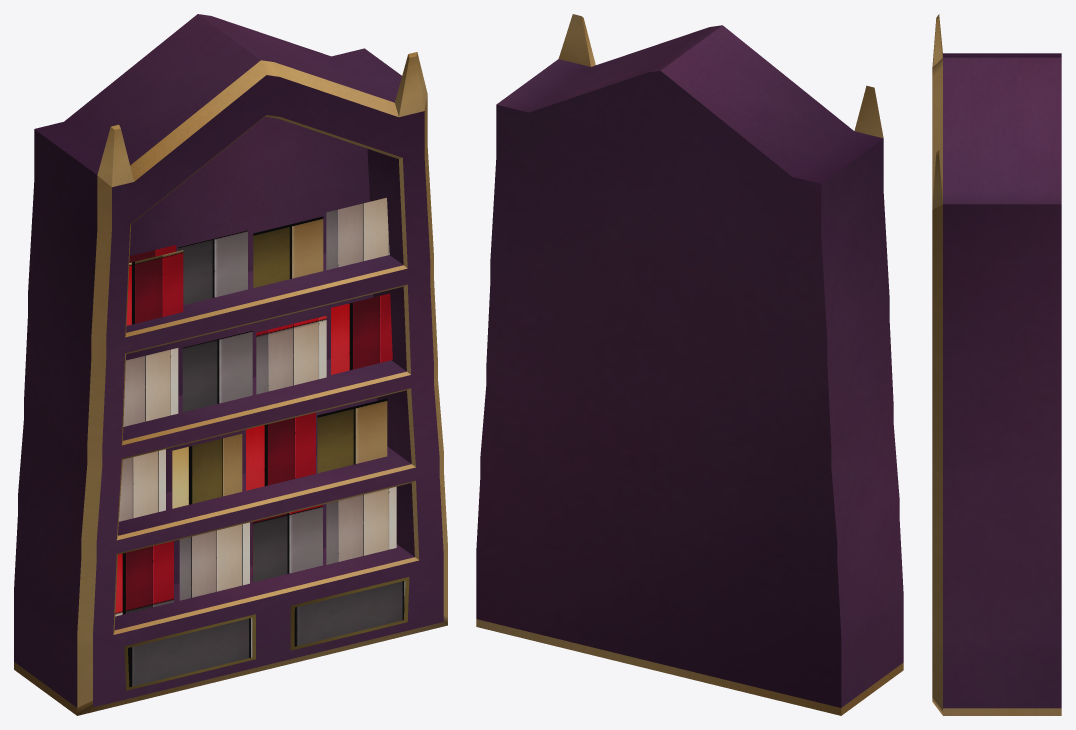
The model's file is SM_library_bookshelf_00.fbx.
3 renders of one model, left to right at view 1: azimuth 30°, elevation 25°; view 2: azimuth 150°, elevation 25°; view 3: azimuth 270°, elevation 25°, orthographic. The views are drawn at different scales.
Visible parts, largest first — view 1: SM_library_bookshelf_00; view 2: SM_library_bookshelf_00; view 3: SM_library_bookshelf_00.
Part boxes in pixels (bbox=[...]): SM_library_bookshelf_00: bbox=[14, 14, 447, 715]; SM_library_bookshelf_00: bbox=[476, 14, 903, 715]; SM_library_bookshelf_00: bbox=[932, 14, 1061, 715].
Bounding box in the file's own units: 2.1 × 3.31 × 0.6762.
